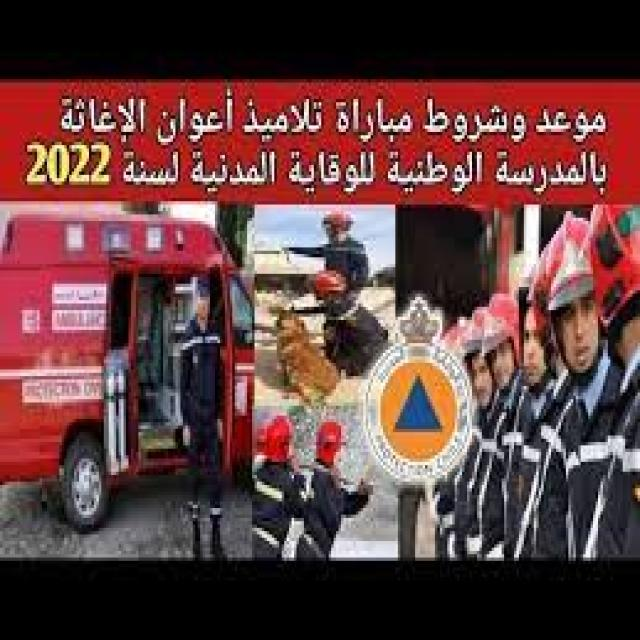ambulance: (1, 215, 248, 523)
